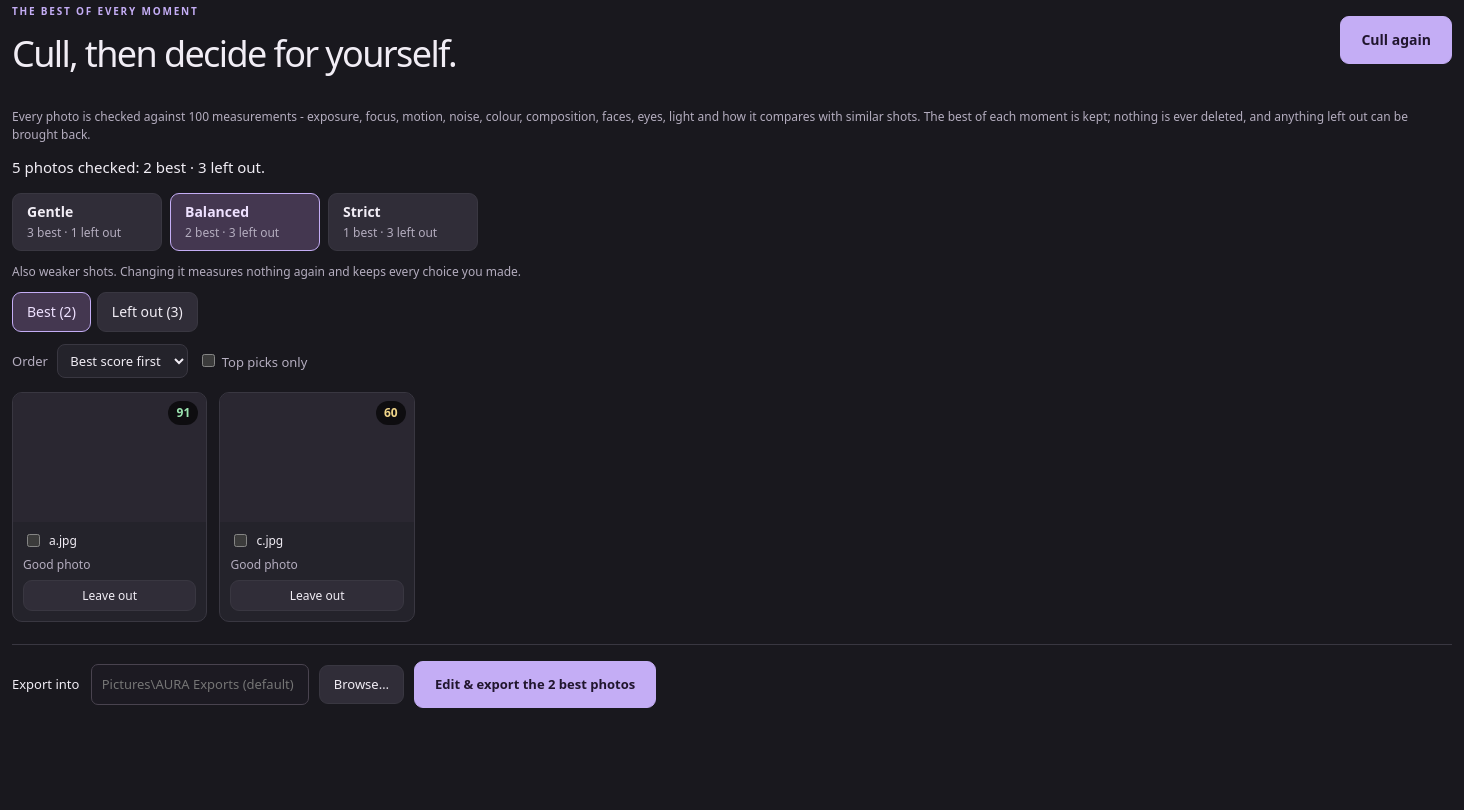
Scenario: filters the left-out list by reason
Step 1. Click the tab "Left out (3)" → {"x": 147, "y": 312}, box x1=97 y1=292 x2=198 y2=332
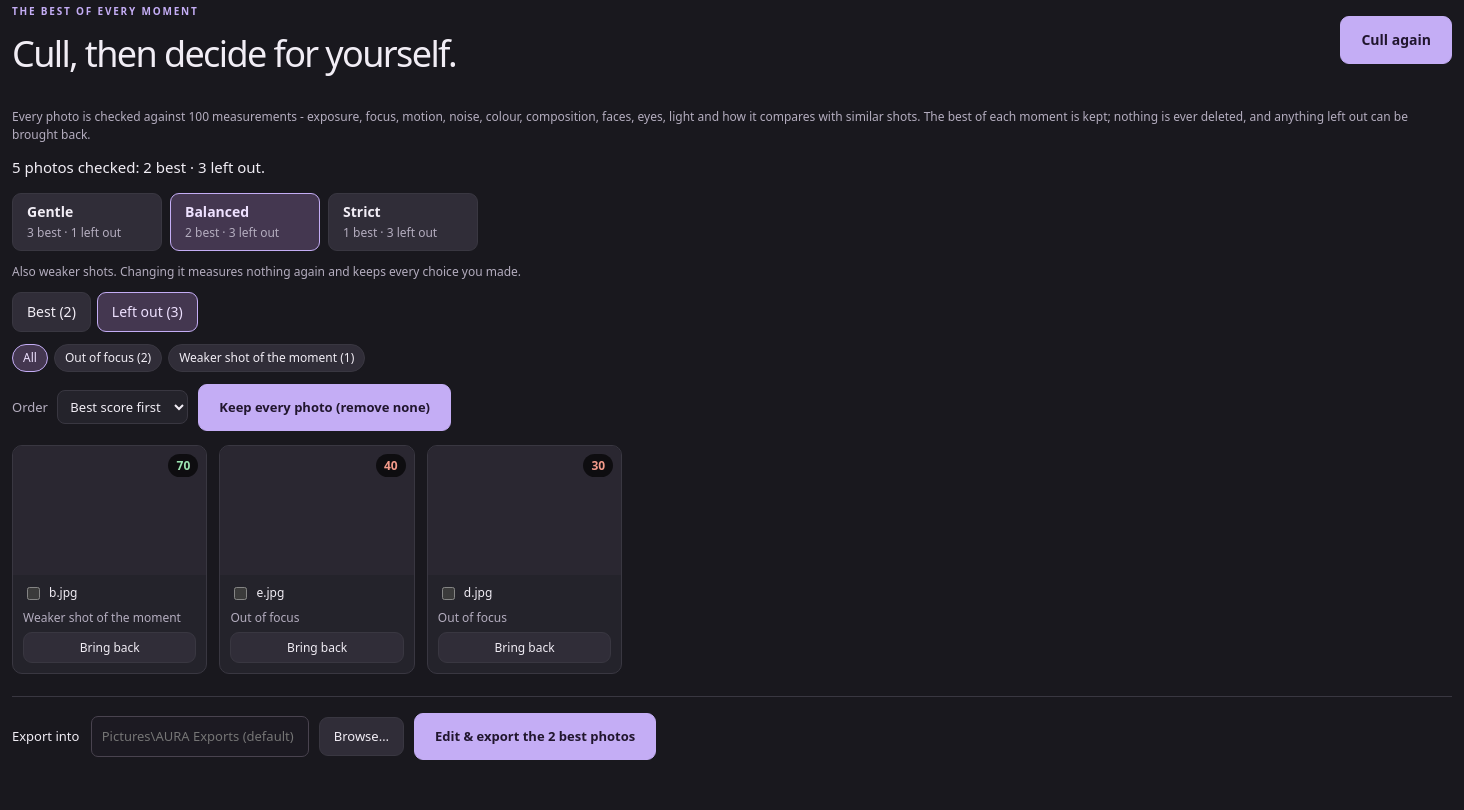
Step 2. Click the button "Out of focus (2)" → {"x": 108, "y": 358}, box x1=54 y1=344 x2=162 y2=372
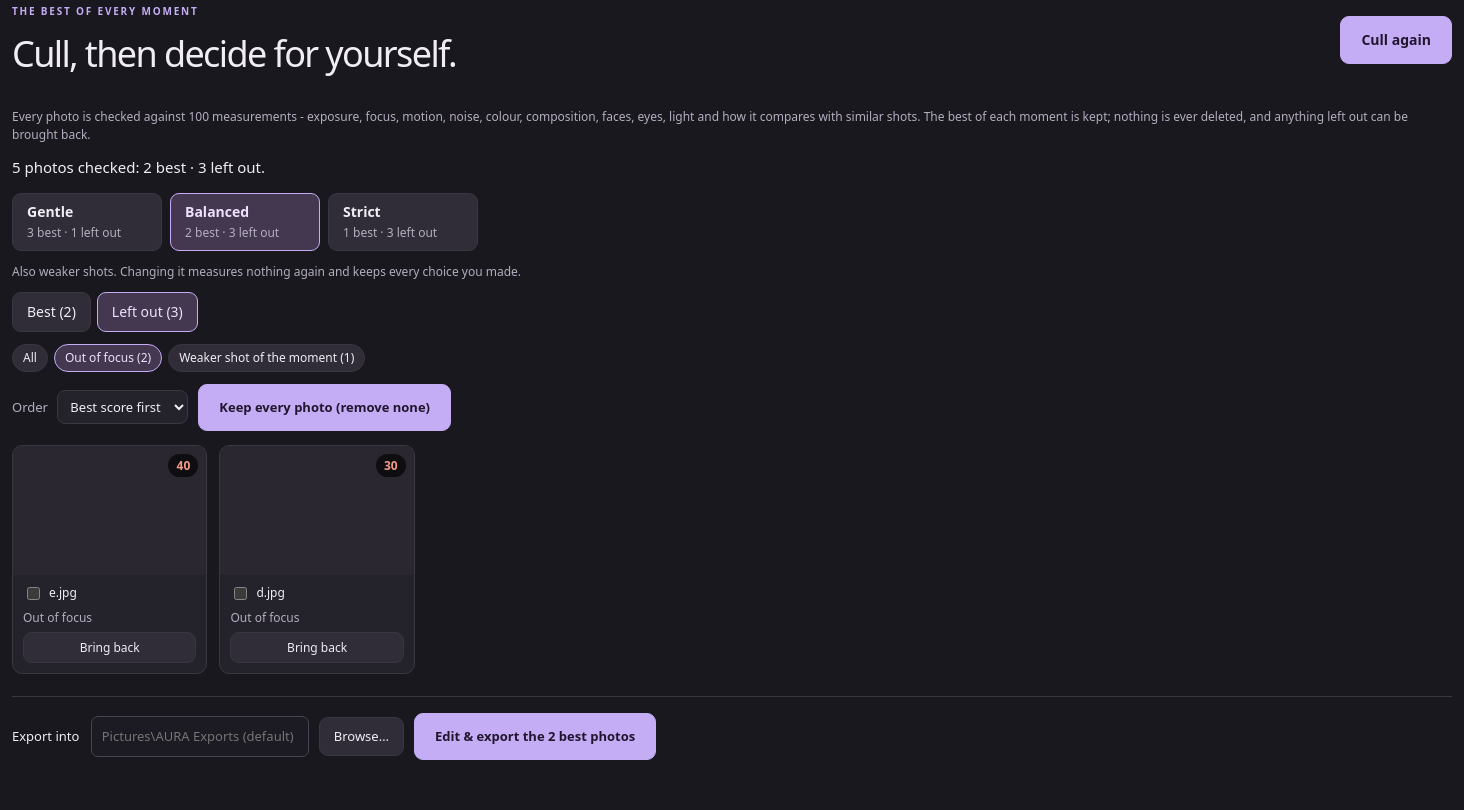
Check: the element "d.jpg" is shown, box x1=219 y1=445 x2=415 y2=674
Check: the text "b.jpg" is gone
Step 3. Click the button "All" → {"x": 30, "y": 358}, box x1=12 y1=344 x2=48 y2=372
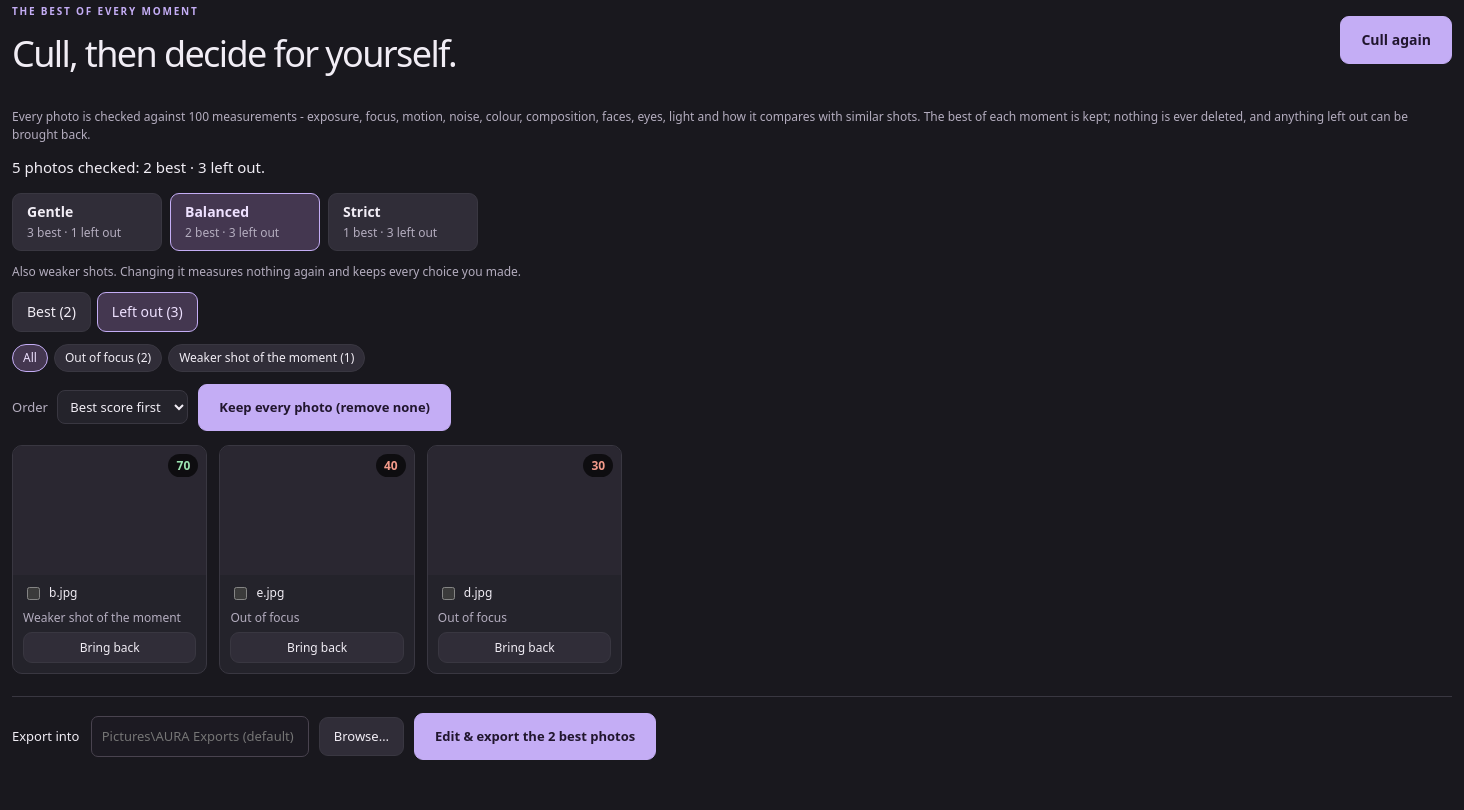
Check: the element "b.jpg" is shown, box x1=12 y1=445 x2=207 y2=674
